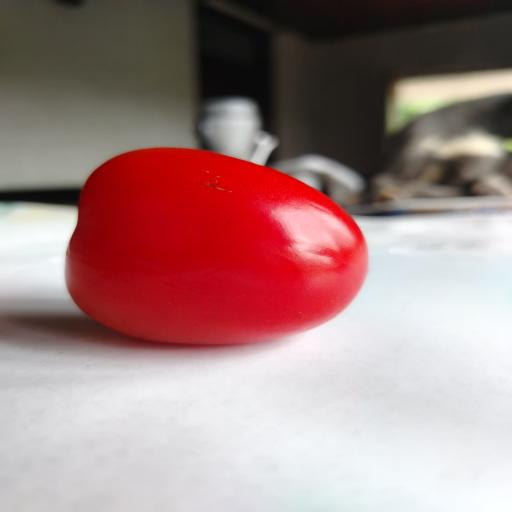ripe: (65, 148, 368, 344)
